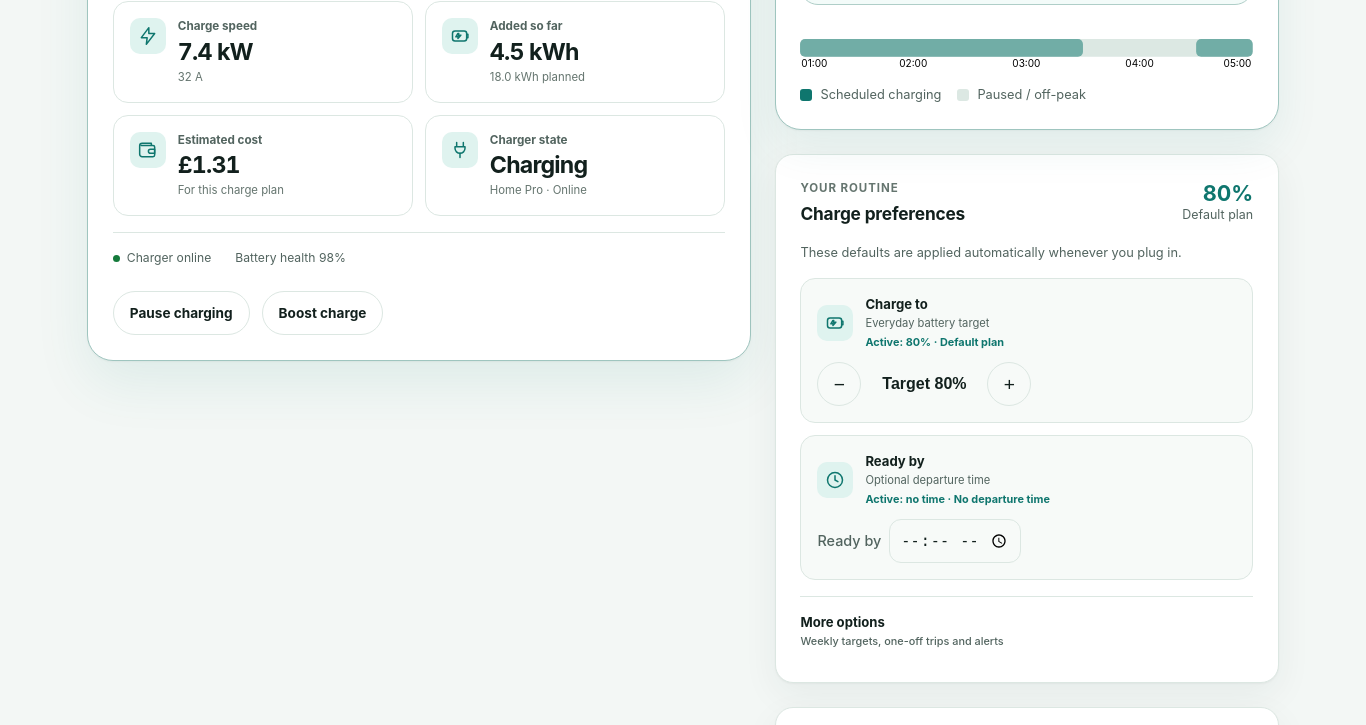
Test case: Dashboard integration › warns when a setting is only held in memory
(page scrolled)
Expected: the button with aria-label "charge target 80%" is shown, [869, 362, 979, 406]
Click the button named "increase target".
click(1009, 384)  # box [987, 362, 1031, 406]
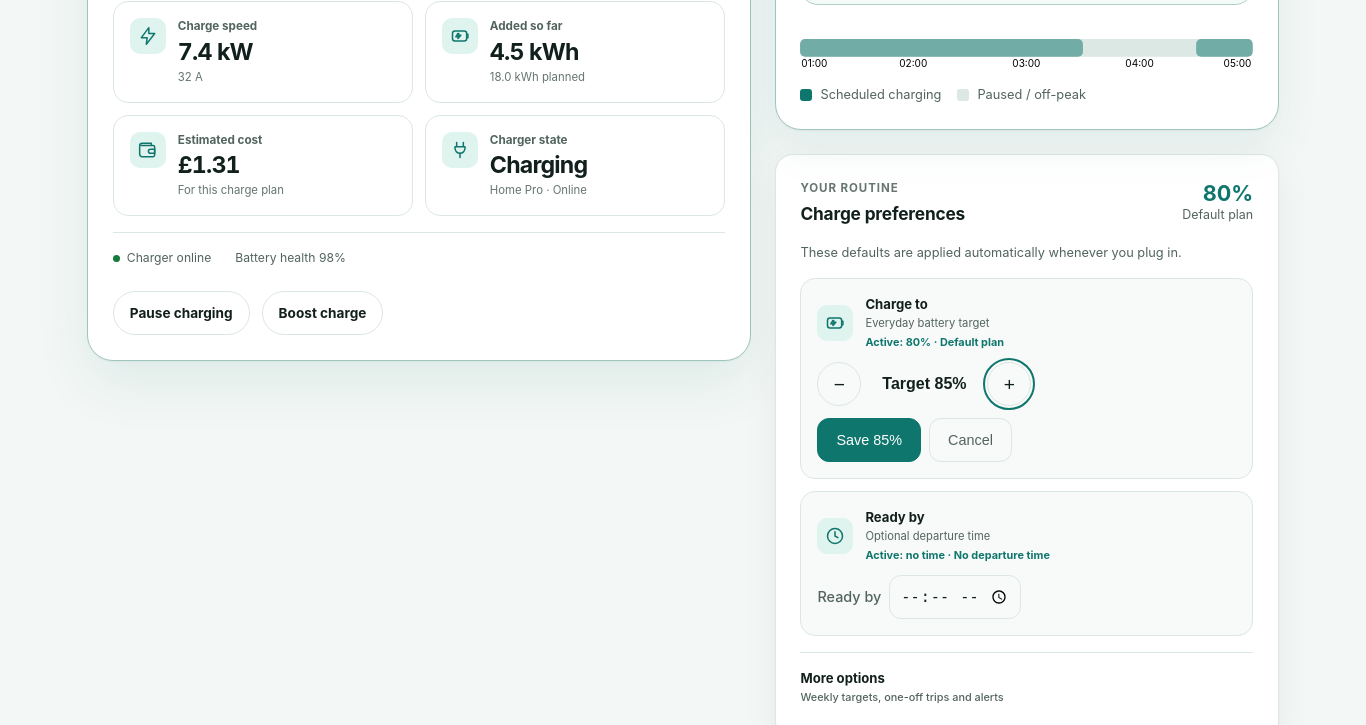
Click the button "Save 85%".
click(869, 440)  # box [817, 418, 921, 462]
(page scrolled)
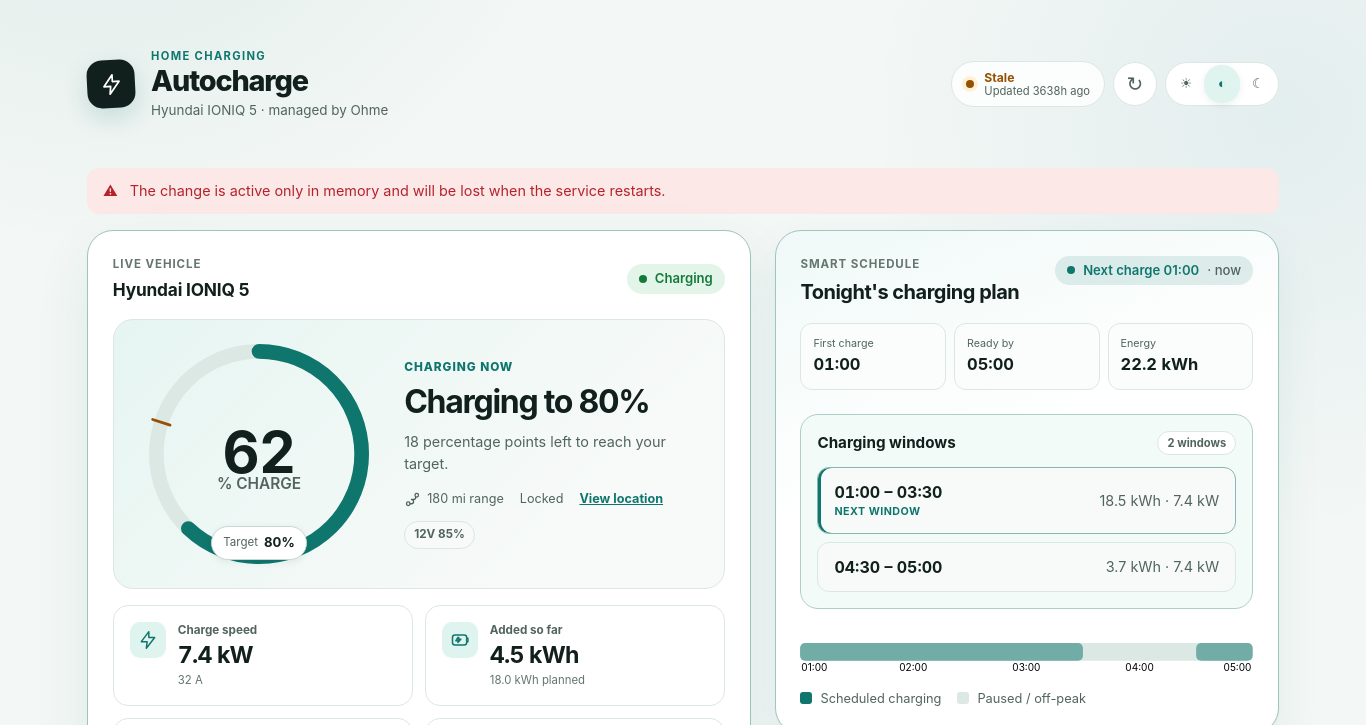
Now the 2nd message shows "lost when the service restarts", box [130, 182, 666, 199]
